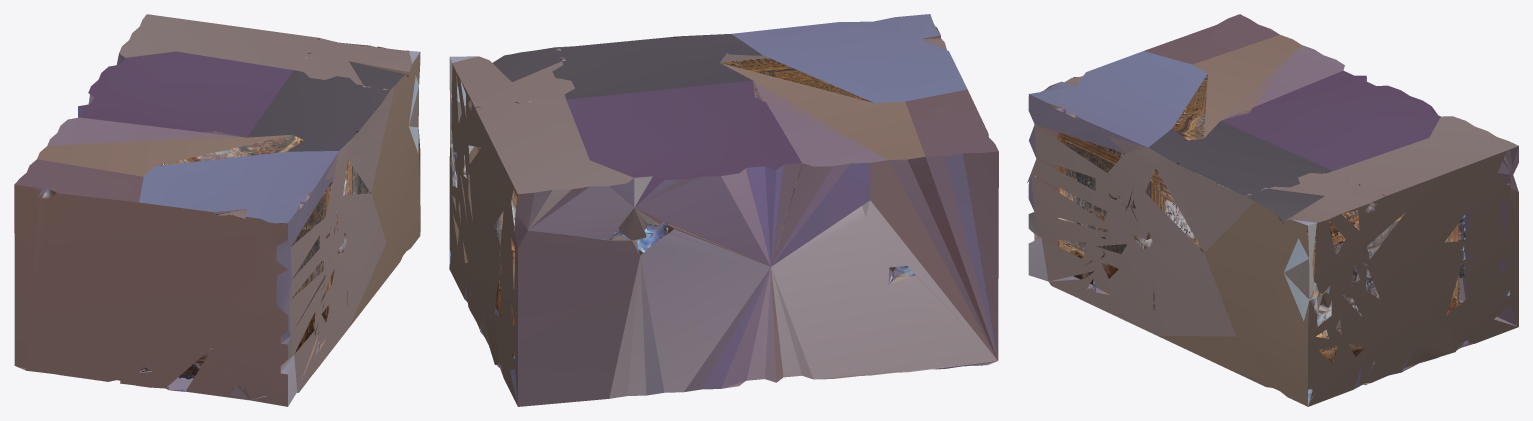
File: room_web.glb
3 renders of one model, left to right at view 1: azimuth 30°, elevation 25°; view 2: azimuth 150°, elevation 25°; view 3: azimuth 270°, elevation 25°, orthographic. The views are drawn at different scales.
Parts seen in each view (by area): view 1: Object_2, Object_3, Object_4, Object_5, Object_6; view 2: Object_2, Object_11, Object_3, Object_9; view 3: Object_2, Object_3, Object_5, Object_7, Object_6, Object_4, Object_8, Object_11, Object_10, Object_15.
Part boxes in pixels (<box>): Object_2: <box>14,14,420,406</box>; Object_3: <box>193,50,408,367</box>; Object_4: <box>176,137,361,335</box>; Object_5: <box>209,136,361,353</box>; Object_6: <box>147,90,389,374</box>; Object_2: <box>449,14,998,406</box>; Object_11: <box>499,61,868,312</box>; Object_3: <box>451,64,872,234</box>; Object_9: <box>498,61,855,306</box>; Object_2: <box>1027,14,1518,406</box>; Object_3: <box>1058,114,1457,363</box>; Object_5: <box>1064,113,1381,361</box>; Object_7: <box>1057,89,1375,353</box>; Object_6: <box>1058,150,1465,364</box>; Object_4: <box>1059,79,1458,384</box>; Object_8: <box>1064,74,1464,361</box>; Object_11: <box>1079,80,1465,350</box>; Object_10: <box>1058,106,1459,355</box>; Object_15: <box>1065,105,1456,322</box>.
Bounding box in the file's own units: 14.31 × 5.75 × 14.04.
1 material, 1 textured.
